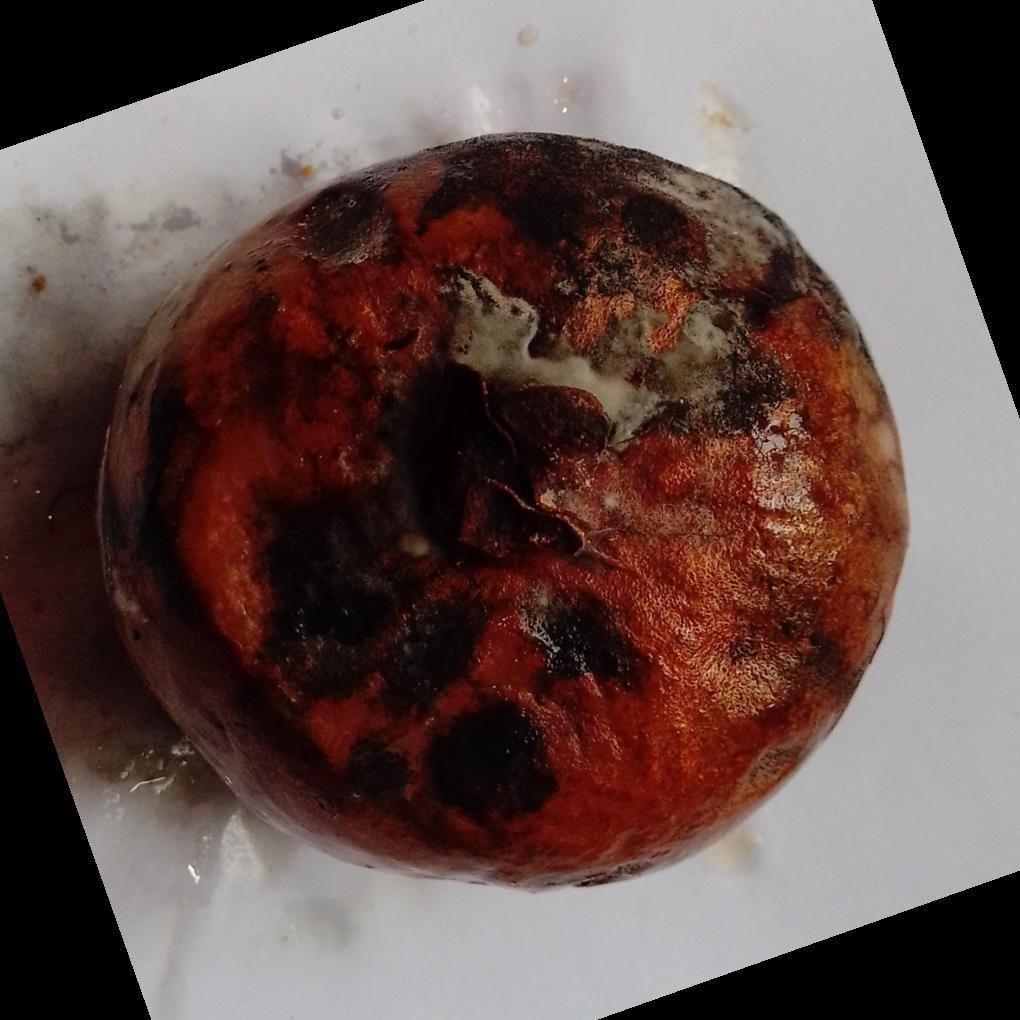FreshOrange: (94, 133, 911, 894)
